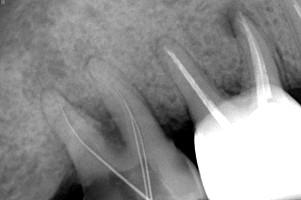Dental Caries: (18, 46, 69, 107), (214, 0, 260, 40), (213, 58, 244, 96), (73, 38, 106, 68)
Endo-Periodontal Lesion: (70, 95, 128, 156)
